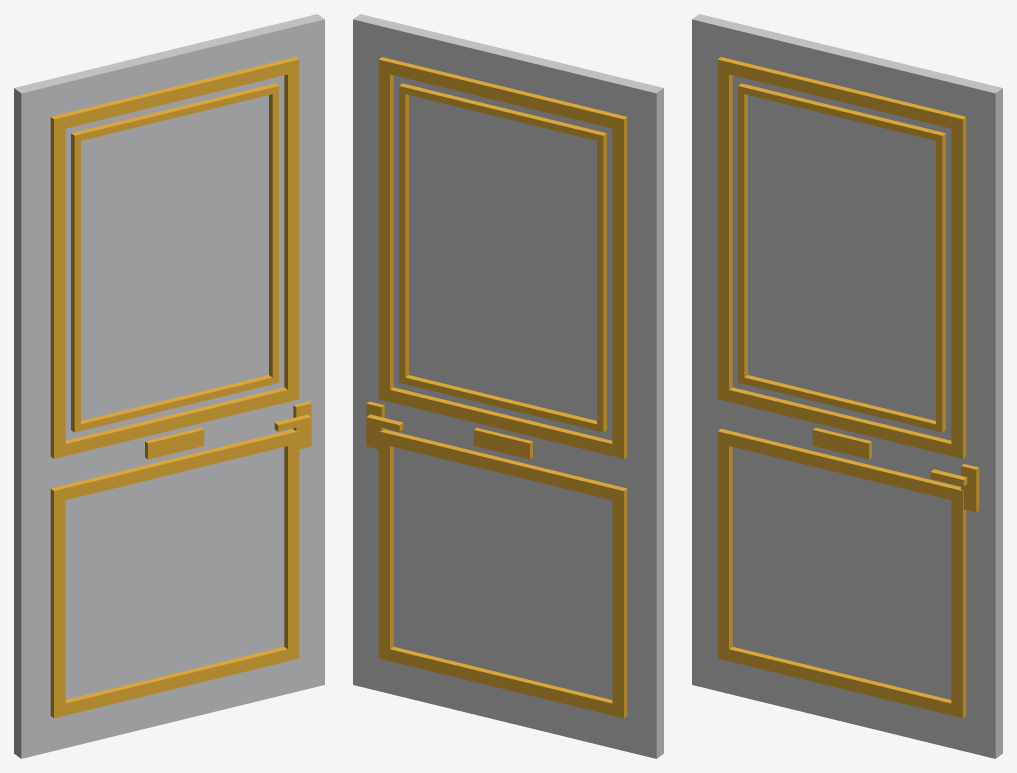
File: SM_Door_obelisk_inner_120x250.fbx
3 renders of one model, left to right at view 1: azimuth 30°, elevation 25°; view 2: azimuth 150°, elevation 25°; view 3: azimuth 330°, elevation 25°, orthographic.
Parts seen in each view (by area): view 1: SM_Door_obelisk_inner_120x250; view 2: SM_Door_obelisk_inner_120x250; view 3: SM_Door_obelisk_inner_120x250.
Boxes of the visible parts, x1,y1,x2,y2 form: SM_Door_obelisk_inner_120x250: [14, 14, 324, 758]; SM_Door_obelisk_inner_120x250: [353, 14, 663, 758]; SM_Door_obelisk_inner_120x250: [692, 14, 1002, 758].
Bounding box in the file's own units: 1.19 × 2.49 × 0.175.
